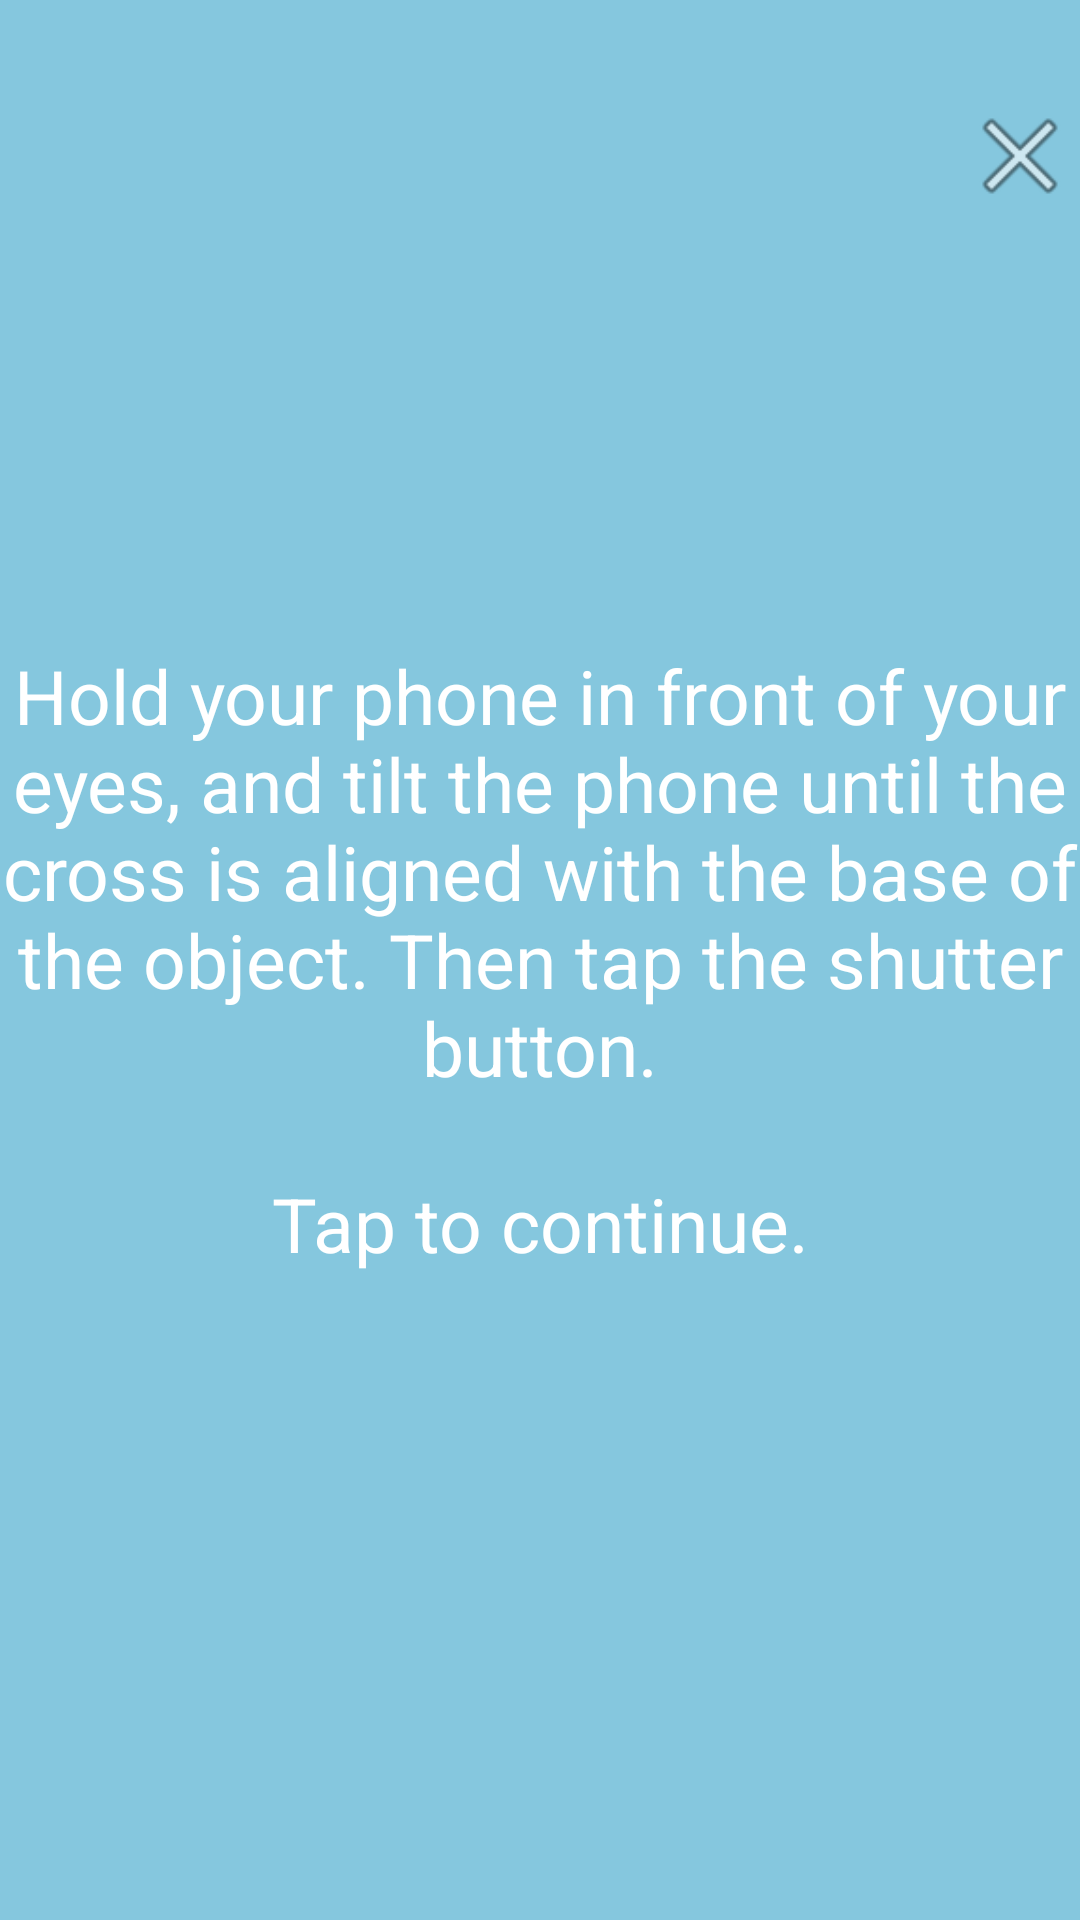

Screen size 1080 x 1920. Icon name, then its box in pixels as (x1, y1, x2, y2):
close clear cancel: (982, 118, 1058, 194)
